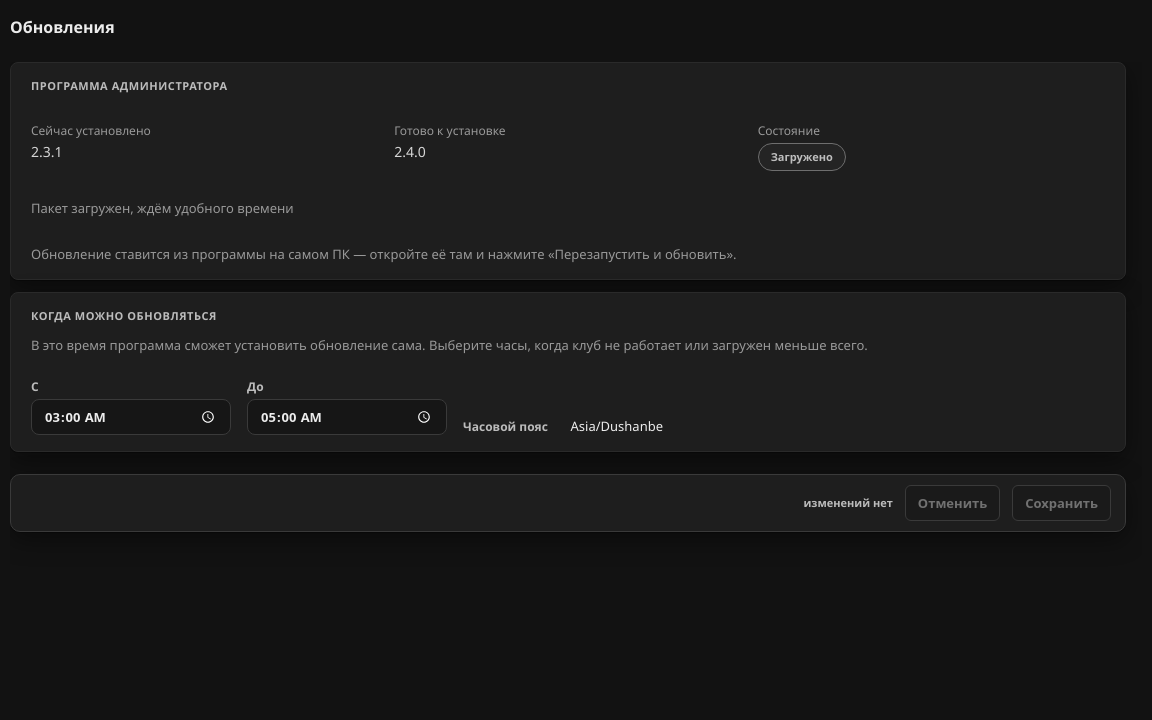
UpdatesDestination › не даёт сохранить окно с совпадающими краями
Replace the text in the time field labelled "С" with "05:00" at [131, 417], box [31, 399, 231, 435]
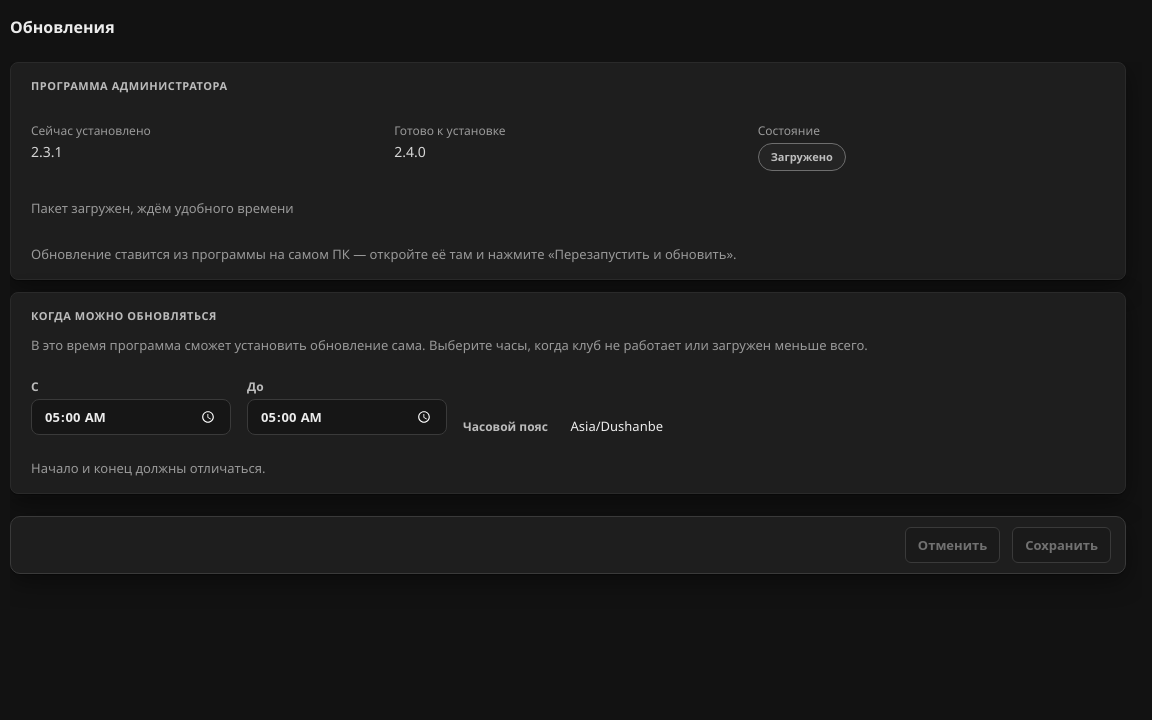
expect the button "Сохранить" is disabled: met, box [1012, 527, 1111, 563]
expect the text "Начало и конец должны отличаться." is shown: met, box [31, 459, 265, 477]
